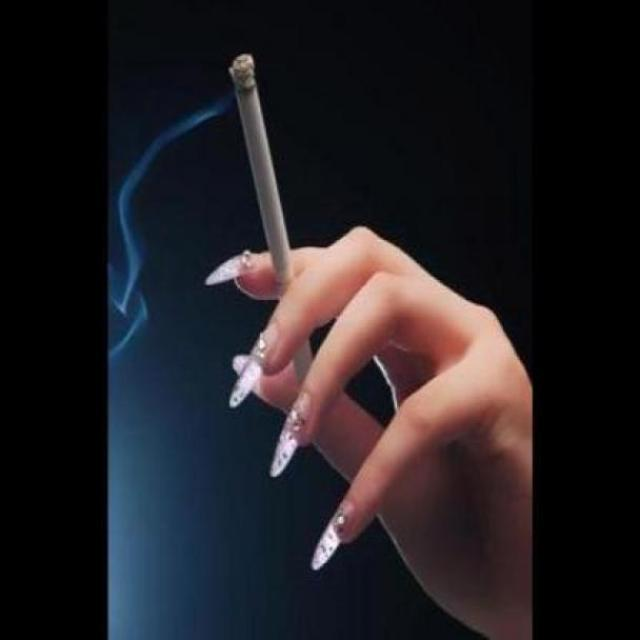rokok: (220, 44, 324, 396)
